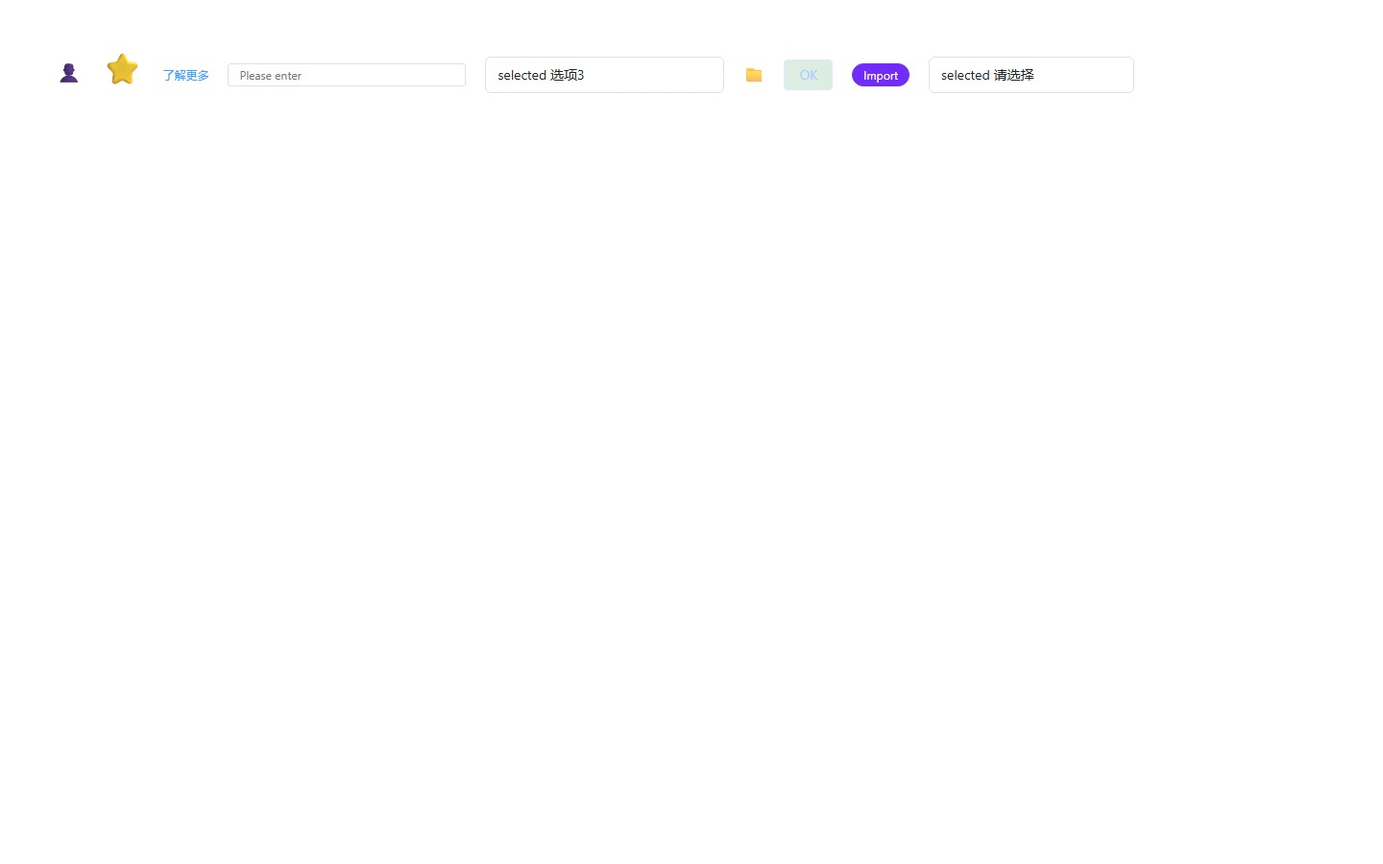button: (784, 60, 833, 90), (852, 63, 909, 86)
icon: (101, 52, 143, 83), (56, 62, 82, 82), (744, 66, 765, 82)
input: (228, 63, 466, 86)
link: (163, 67, 209, 83)
select: (485, 56, 725, 93), (929, 56, 1134, 93)
